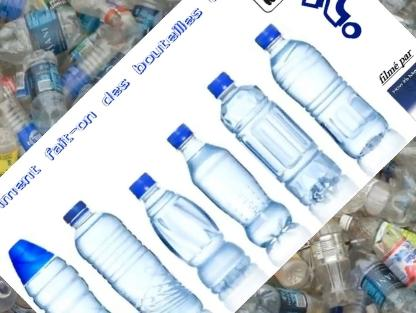Plastic Bottle: (129, 174, 266, 312), (208, 73, 342, 207), (256, 25, 388, 159), (64, 202, 203, 313), (168, 124, 292, 248)
